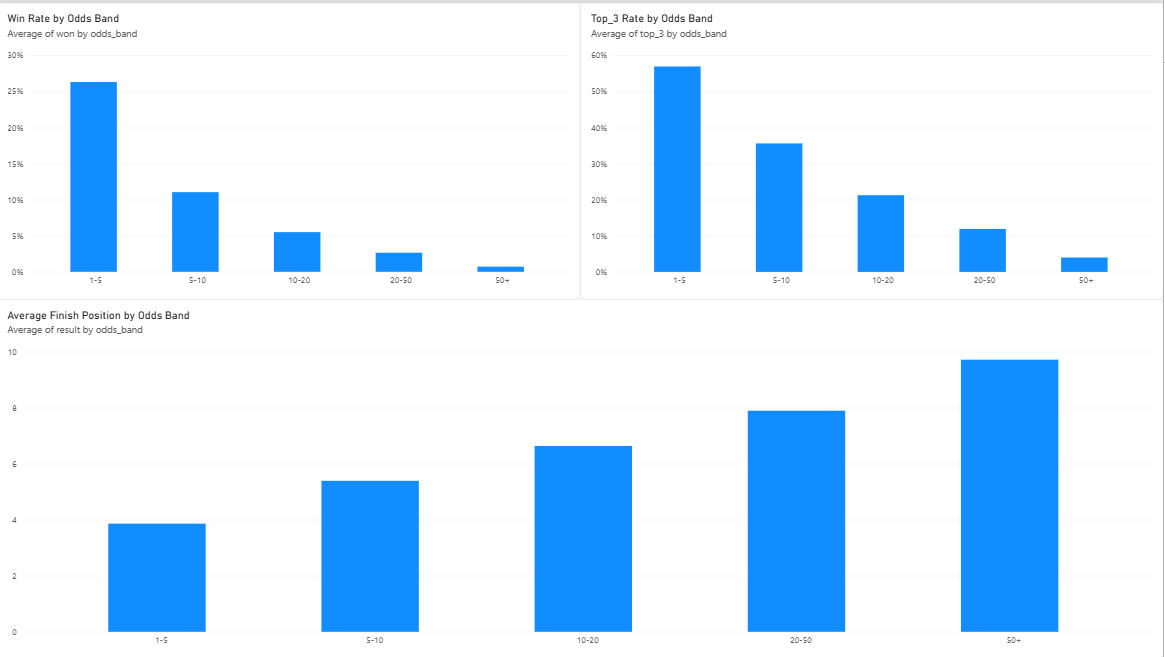

The page's visual inventory and layout, read from the dashboard file:
{"tool":"powerbi","page":{"name":"Betting&Market","canvas":[1920,1080],"ordinal":2},"visuals":[{"type":"clusteredColumnChart","title":"Win Rate by Odds Band","fields":{"Category":["powerbi_data.odds_band"],"Y":["Avg(powerbi_data.won)"]},"box":[0,0,959.2,487.8],"z":0},{"type":"clusteredColumnChart","title":"Top_3 Rate by Odds Band","fields":{"Category":["powerbi_data.odds_band"],"Y":["Avg(powerbi_data.top_3)"]},"box":[961.2,0,959,488],"z":1000},{"type":"clusteredColumnChart","title":"Average Finish Position by Odds Band","fields":{"Category":["powerbi_data.odds_band"],"Y":["Avg(powerbi_data.result)"]},"box":[0,487.8,1920.4,592.8],"z":2000}]}

Visuals, with their boxes in screenshot pixels (x1, y1, x2, y2), scaled from the page's 1920x1080 canvas onto the 1165x657 screenshot:
"Win Rate by Odds Band" clusteredColumnChart: 0/0/582/297
"Top_3 Rate by Odds Band" clusteredColumnChart: 583/0/1164/297
"Average Finish Position by Odds Band" clusteredColumnChart: 0/297/1164/656
